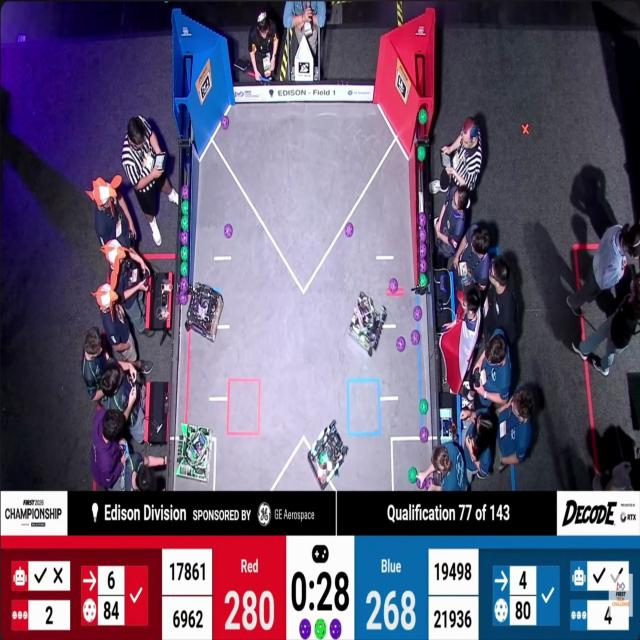artifact_green: (315, 619, 326, 639), (419, 398, 429, 415), (419, 108, 427, 125), (408, 468, 417, 483), (419, 258, 428, 272), (180, 262, 188, 277), (418, 145, 425, 162), (319, 453, 328, 466), (181, 216, 189, 230), (180, 231, 188, 245), (181, 246, 188, 261), (182, 200, 188, 215), (420, 274, 426, 287), (359, 334, 366, 344)
artifact_purple: (299, 619, 311, 639), (330, 619, 341, 639), (344, 222, 354, 238), (411, 330, 421, 346), (224, 224, 233, 239), (180, 277, 188, 293), (420, 427, 428, 443), (389, 279, 398, 293), (440, 275, 447, 293), (414, 306, 422, 321), (397, 337, 405, 352), (416, 478, 426, 490), (423, 477, 432, 490), (181, 185, 189, 199), (179, 292, 188, 304), (420, 258, 427, 273), (420, 243, 427, 258), (419, 213, 426, 228), (221, 116, 229, 129), (181, 231, 188, 245), (419, 229, 426, 242), (370, 332, 377, 344)
